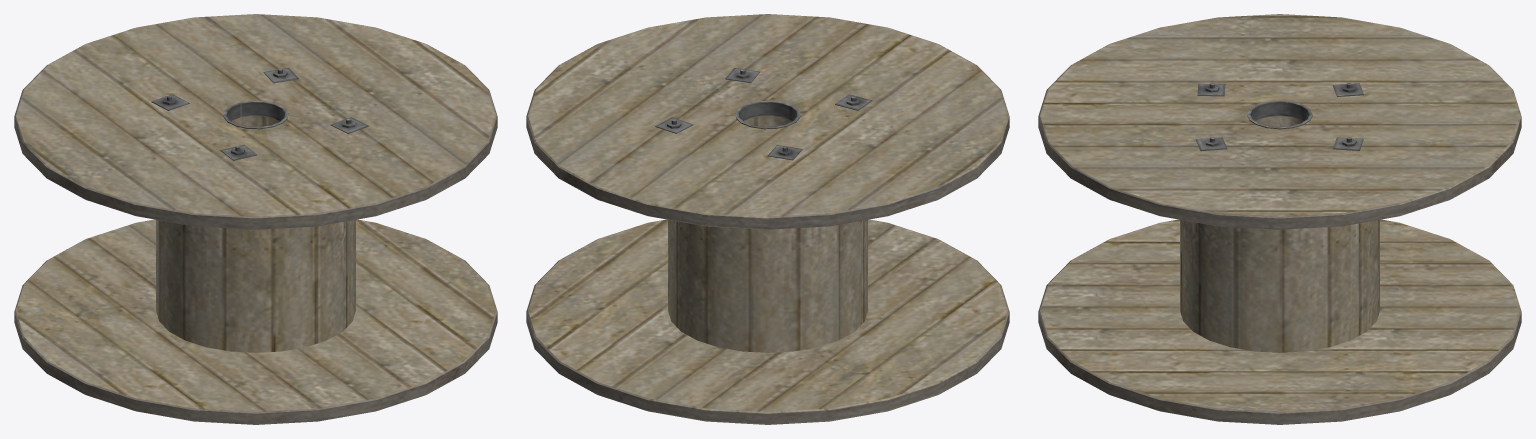
Rendered from CableDrum.fbx.
3 renders of one model, left to right at view 1: azimuth 30°, elevation 25°; view 2: azimuth 150°, elevation 25°; view 3: azimuth 270°, elevation 25°, orthographic.
Visible parts, largest first — view 1: CableDrum; view 2: CableDrum; view 3: CableDrum.
Boxes of the visible parts, left/top/right/bottom form: CableDrum: left=14, top=14, right=497, bottom=424; CableDrum: left=526, top=14, right=1009, bottom=424; CableDrum: left=1038, top=14, right=1521, bottom=424.
Bounding box in the file's own units: 444 × 223 × 444.
